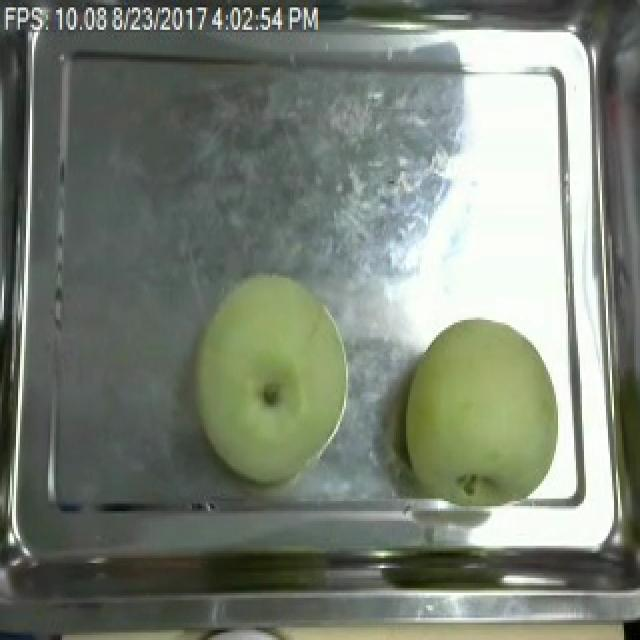50-_ripeness: (185, 266, 361, 480), (400, 297, 566, 520)
